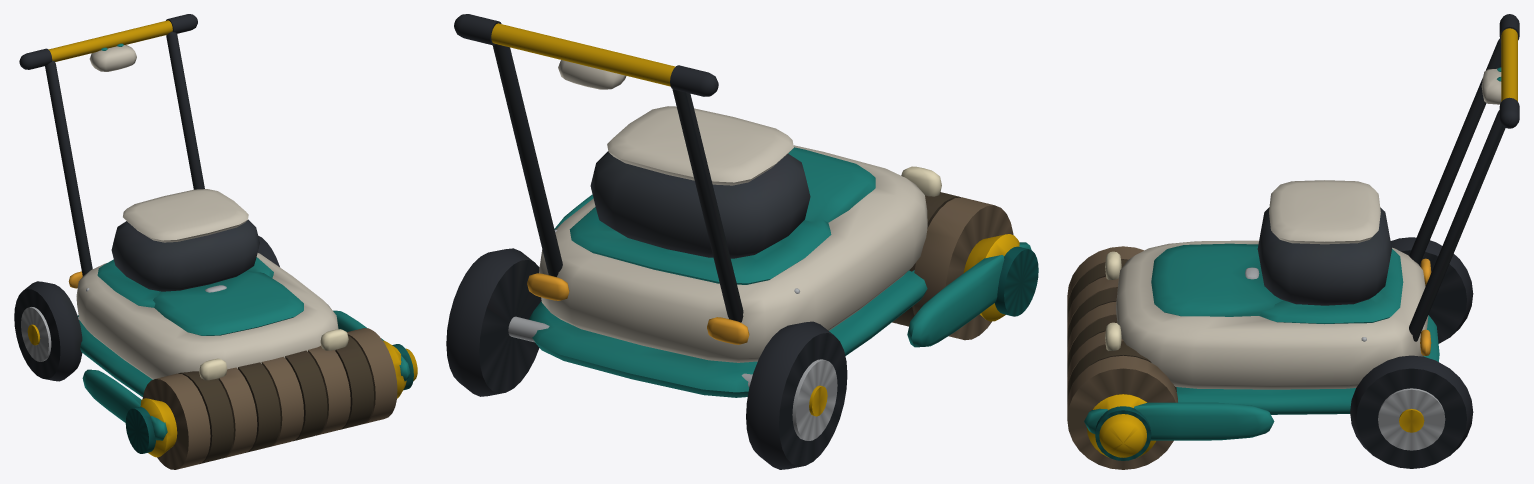
Rendered from trundle.37d6cdb27fd9.glb.
The picture shows the model from 3 angles, left to right: view 1: azimuth 30°, elevation 25°; view 2: azimuth 150°, elevation 25°; view 3: azimuth 270°, elevation 25°; orthographic projection. The views are drawn at different scales.
Parts seen in each view (by area): view 1: chassis_LOD0, drum_LOD0, wheels_LOD0, lamps_LOD0; view 2: chassis_LOD0, wheels_LOD0, drum_LOD0, lamps_LOD0; view 3: chassis_LOD0, wheels_LOD0, drum_LOD0, lamps_LOD0.
Boxes of the visible parts, <box> form: chassis_LOD0: <box>19,14,413,453</box>; drum_LOD0: <box>140,328,417,469</box>; wheels_LOD0: <box>14,236,279,381</box>; lamps_LOD0: <box>199,329,348,380</box>; chassis_LOD0: <box>454,14,1038,397</box>; wheels_LOD0: <box>446,248,847,469</box>; drum_LOD0: <box>892,192,1019,340</box>; lamps_LOD0: <box>901,166,941,196</box>; chassis_LOD0: <box>1084,14,1519,460</box>; wheels_LOD0: <box>1350,237,1473,468</box>; drum_LOD0: <box>1067,246,1177,469</box>; lamps_LOD0: <box>1105,251,1121,350</box>.
Size of what is drawn, in the model's own units: 1.38 by 1.37 by 1.62.
